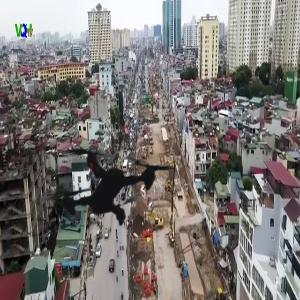drone: (13, 89, 204, 280)
